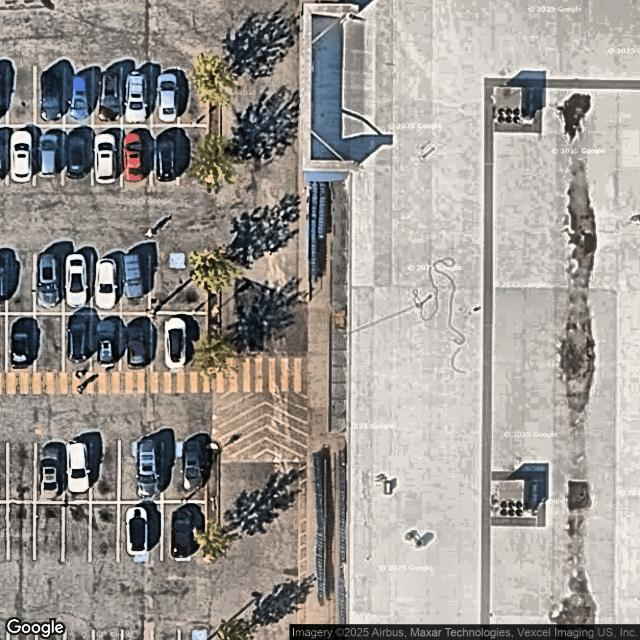car: (38, 250, 61, 309), (137, 442, 159, 495), (67, 254, 87, 308), (41, 446, 61, 499), (41, 71, 63, 119), (124, 257, 147, 302), (174, 509, 196, 556), (184, 442, 205, 490), (156, 136, 177, 184), (167, 316, 186, 369), (126, 73, 146, 123), (125, 132, 145, 182), (157, 75, 179, 119), (13, 320, 35, 364), (98, 73, 119, 119), (70, 74, 91, 119), (69, 315, 90, 360), (95, 136, 115, 183), (69, 444, 88, 493), (100, 321, 120, 365), (128, 326, 149, 367), (127, 509, 147, 552), (13, 131, 30, 181), (97, 261, 115, 308), (40, 135, 59, 177), (69, 134, 85, 177)
lot_boundary: (0, 0, 207, 639)
stall: (154, 249, 207, 313), (154, 311, 207, 374), (163, 441, 209, 503), (163, 505, 206, 561), (120, 312, 154, 370), (92, 125, 124, 185), (63, 251, 93, 313), (62, 313, 94, 371), (34, 314, 66, 372), (34, 253, 64, 314), (36, 67, 67, 126), (90, 500, 119, 562), (7, 252, 36, 314), (93, 251, 121, 315), (122, 251, 150, 314), (152, 64, 182, 122), (91, 314, 121, 372), (179, 123, 207, 185), (6, 443, 35, 502), (35, 444, 64, 503), (38, 126, 66, 187), (65, 65, 93, 126), (124, 64, 151, 127), (91, 443, 120, 501), (152, 125, 180, 185), (8, 65, 36, 125), (36, 502, 64, 561), (62, 502, 90, 561), (119, 502, 147, 561), (94, 67, 122, 125), (64, 128, 92, 185), (117, 443, 144, 502), (124, 128, 151, 186), (7, 316, 36, 369), (10, 126, 36, 185), (65, 443, 90, 503), (9, 502, 34, 561), (183, 63, 206, 124), (141, 504, 163, 560), (144, 445, 164, 501)
